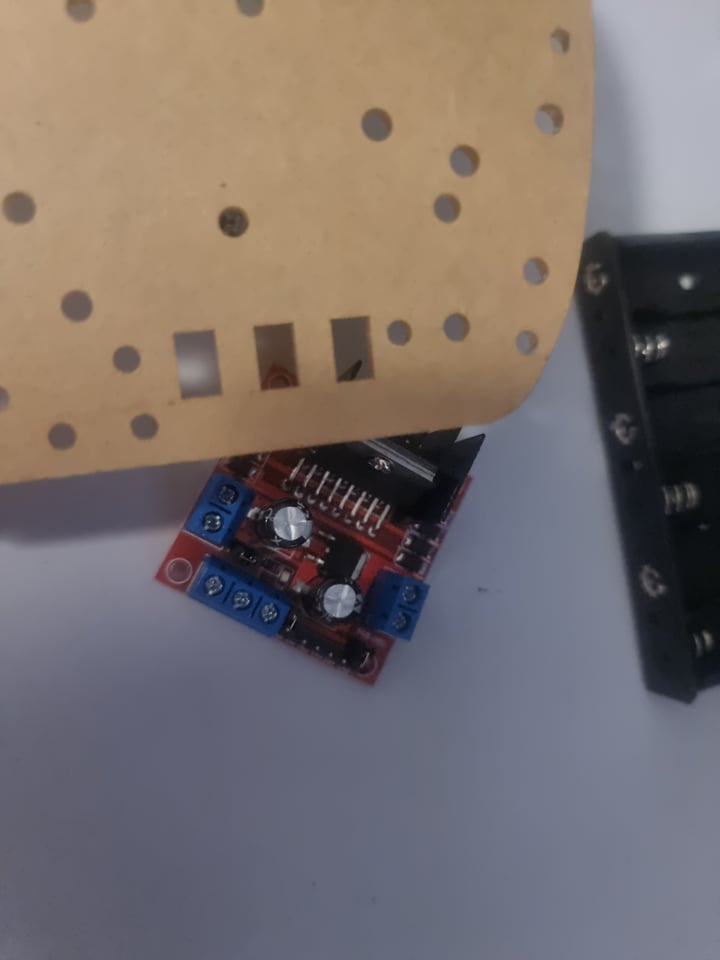BATTERY BOX: (577, 210, 720, 707)
MOTOR: (154, 377, 492, 686)
